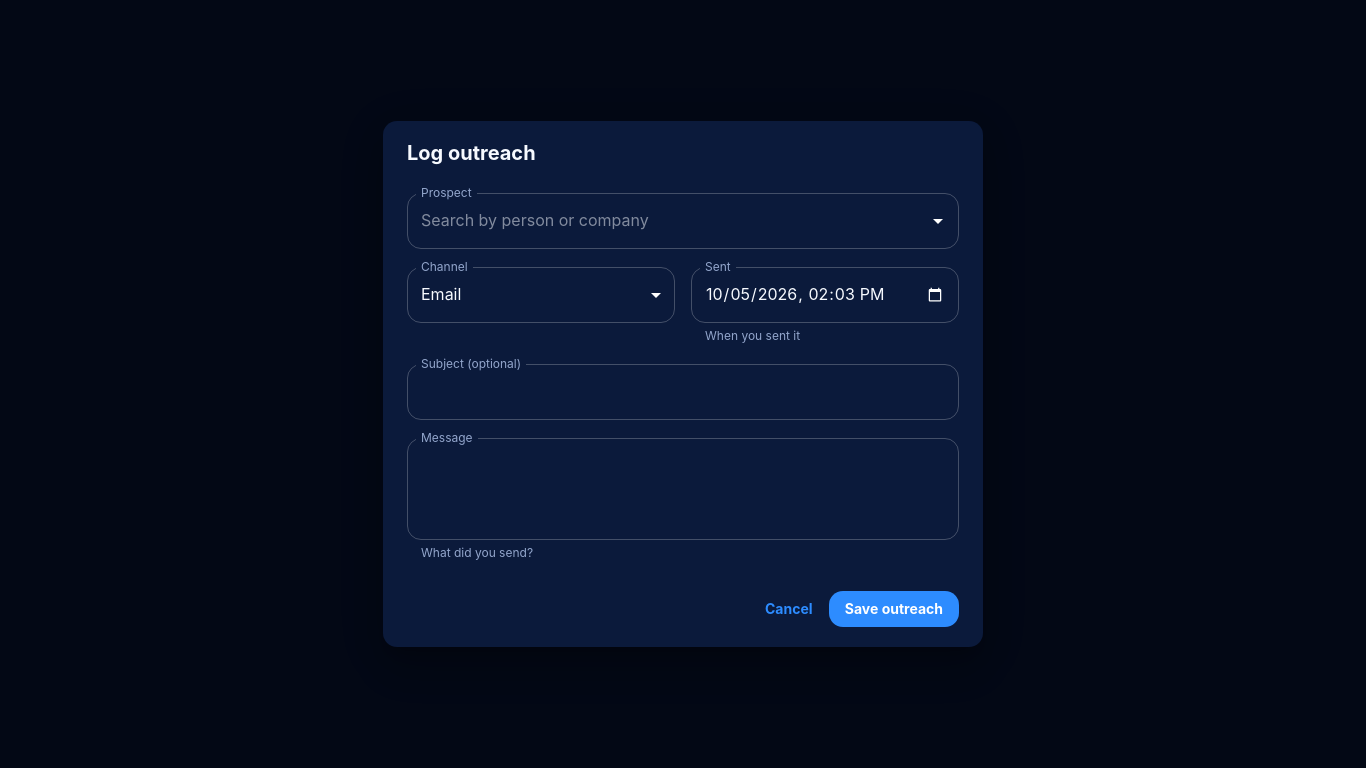
Test: LogOutreachForm › needs a prospect and a message, in plain words, on the right fields
The image size is (1366, 768).
Click the button "Save outreach" at (894, 609), box left=829, top=591, right=959, bottom=627
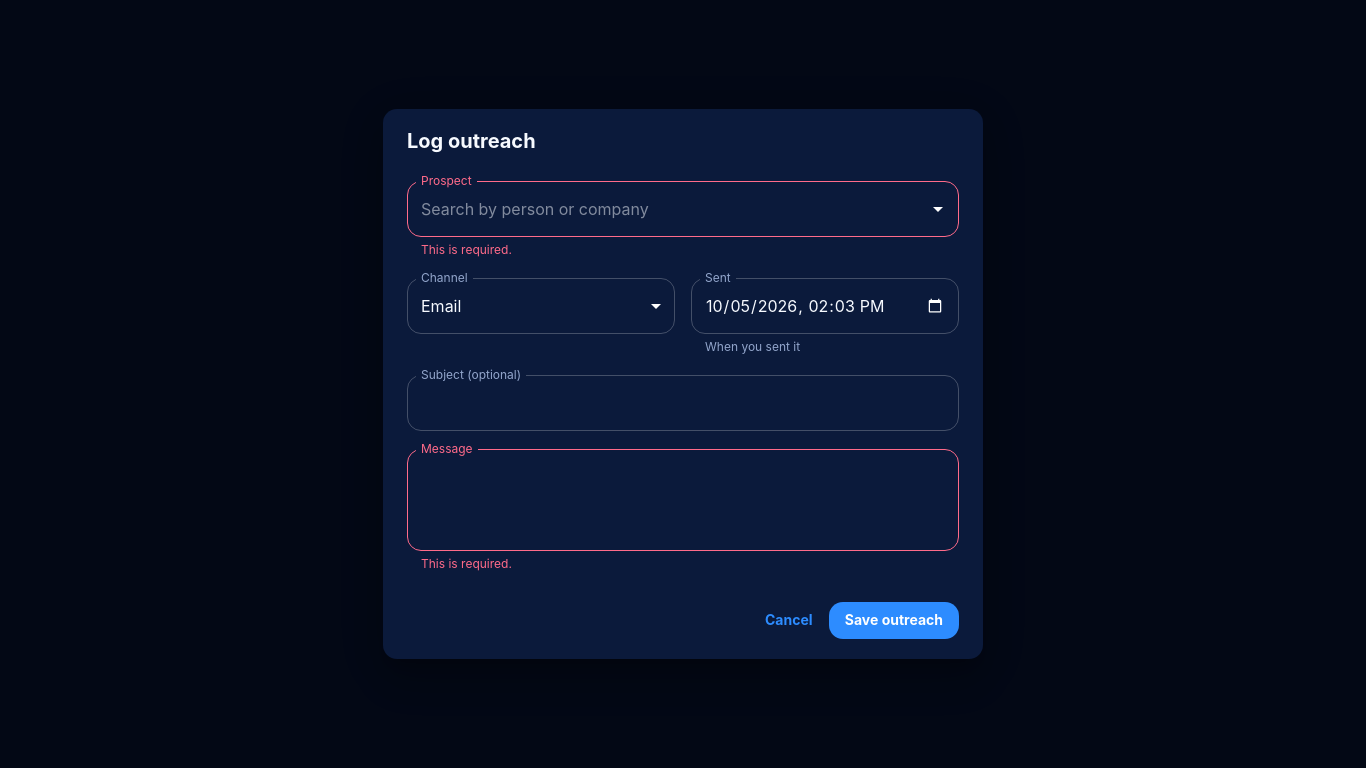
Check: the text "This is required." is shown 2 times, box left=421, top=242, right=512, bottom=257; left=421, top=556, right=512, bottom=571
